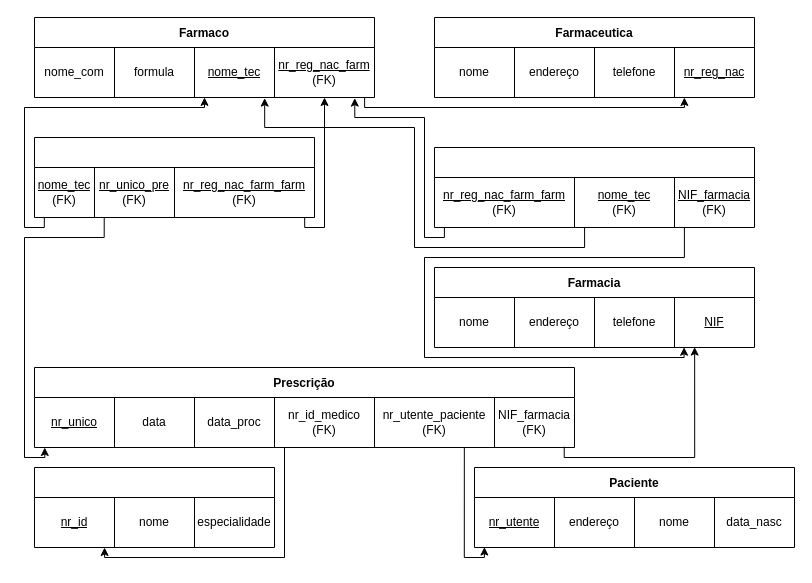
Image size: 812x583. Some labels were removed from this diagram. The shapes that lost their labels are listed below. From the top down, each one's box as (x1, y1, x2, y2) in pixels, then its label:
(34, 136, 314, 218): Inclui
(434, 146, 754, 228): Vende
(34, 466, 274, 548): Medico
